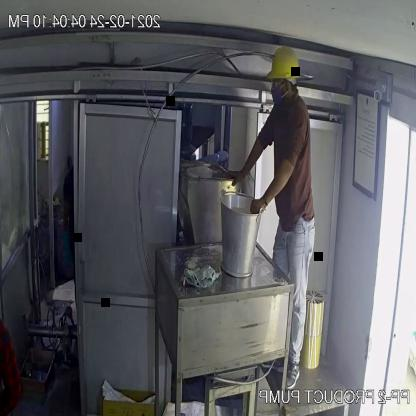helmet: (266, 42, 300, 88)
